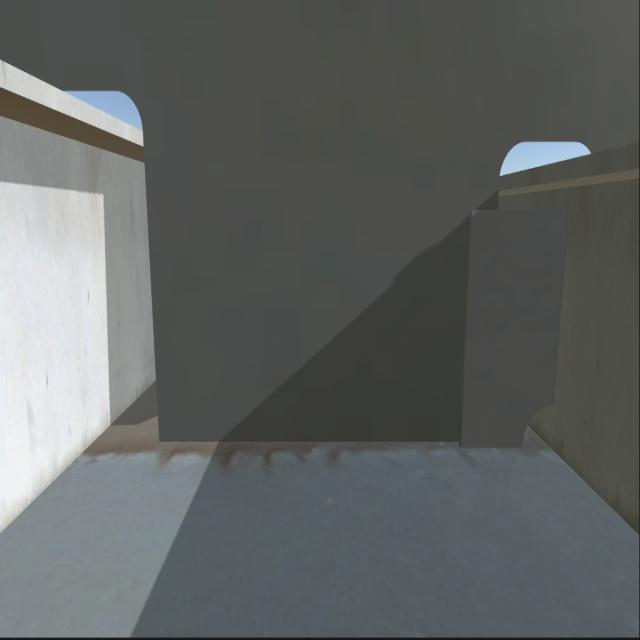fillet_hole: (520, 396, 556, 450)
fillet_yong_jeop_jang: (157, 442, 517, 451)
longi_yong_jeop_jang: (549, 211, 565, 400)
plate_CP01: (466, 210, 562, 458)
